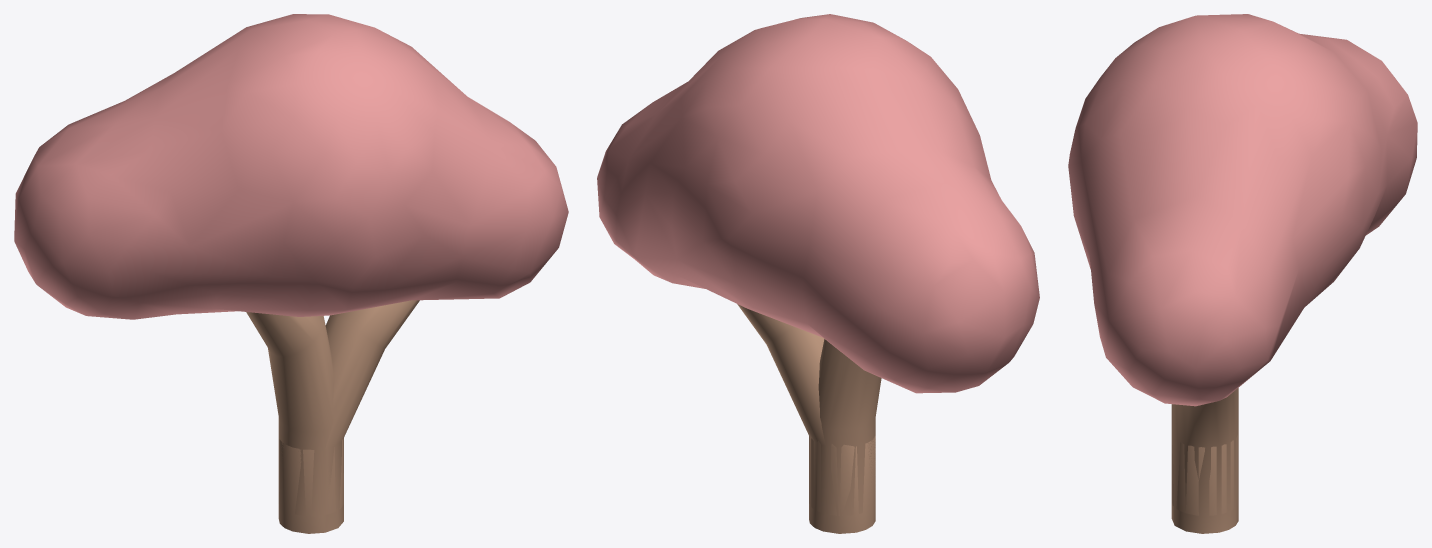
The model's file is tree-reflect.gltf.
3 renders of one model, left to right at view 1: azimuth 30°, elevation 25°; view 2: azimuth 150°, elevation 25°; view 3: azimuth 270°, elevation 25°, orthographic. The views are drawn at different scales.
Parts seen in each view (by area): view 1: Metaball, trunk 1, trunk 2; view 2: Metaball, trunk 2, trunk 1; view 3: Metaball, trunk 2, trunk 1.
Boxes of the visible parts, x1,y1,x2,y2 form: Metaball: (14,14,568,319); trunk 1: (246,312,343,516); trunk 2: (278,300,419,533); Metaball: (597,14,1039,393); trunk 2: (737,304,875,533); trunk 1: (809,339,881,515); Metaball: (1068,14,1417,406); trunk 2: (1171,388,1238,533); trunk 1: (1172,435,1237,515).
Size of the model in its own units: 107 by 106 by 67.6.
